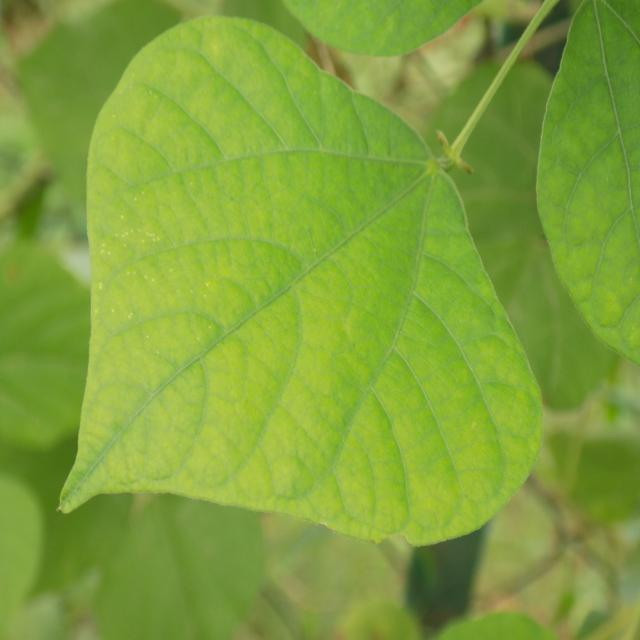Dolicos bean_healthy: (60, 18, 547, 550), (423, 41, 615, 412), (540, 0, 640, 368), (91, 477, 271, 640), (0, 241, 127, 448)
